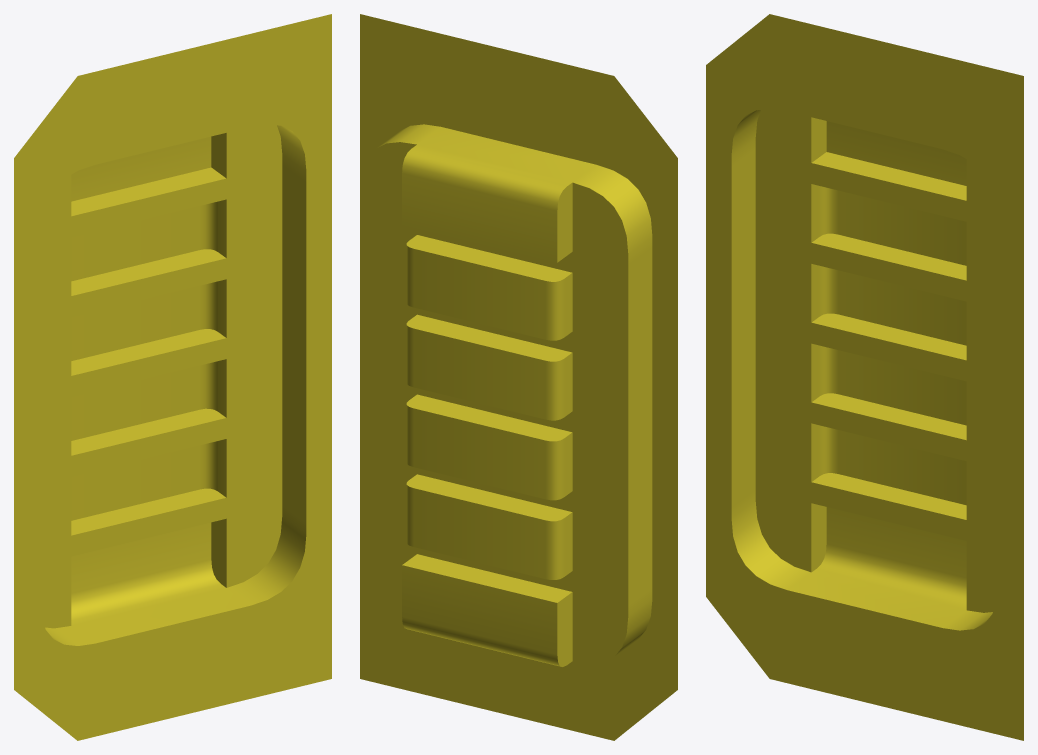
The model's file is BigWin_SideWall_A.FBX.
3 views of the same model, side by side, from view 1: azimuth 30°, elevation 25°; view 2: azimuth 150°, elevation 25°; view 3: azimuth 330°, elevation 25° (orthographic).
Visible parts, largest first — view 1: BigWin_SideWall_A; view 2: BigWin_SideWall_A; view 3: BigWin_SideWall_A.
Part boxes in pixels (x1,y1,x2,y2): BigWin_SideWall_A: (14, 14, 331, 740); BigWin_SideWall_A: (360, 14, 677, 740); BigWin_SideWall_A: (706, 14, 1023, 740).
Bounding box in the file's own units: 375 × 750 × 80.27.
